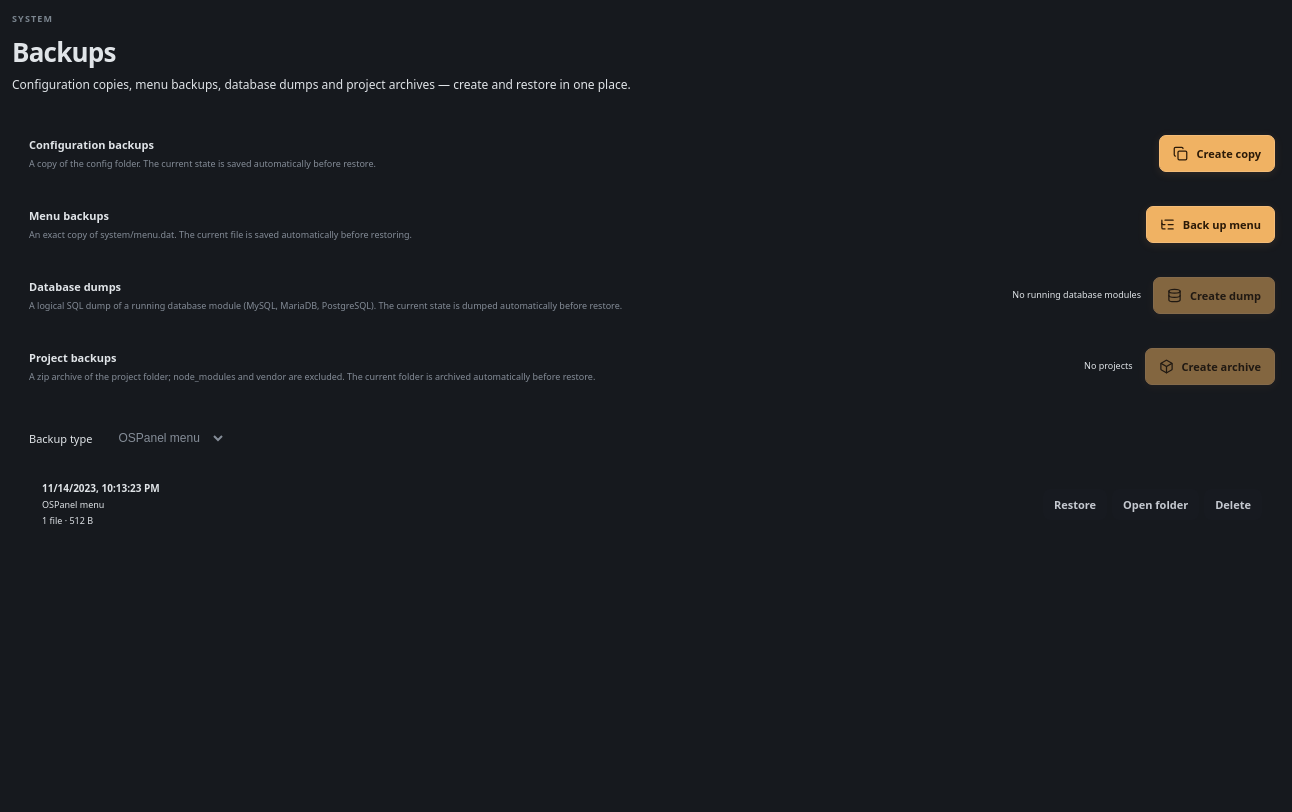
Test case: Backups list › opens filtered menu copies and allows switching to other types
The image size is (1292, 812).
Check: the text "OSPanel menu" is shown, box [42,498,104,511]
Check: the text "Configurations" is not shown
Select "Databases" in the dropdown named "Backup type" at (166, 438), box [104,420,226,456]
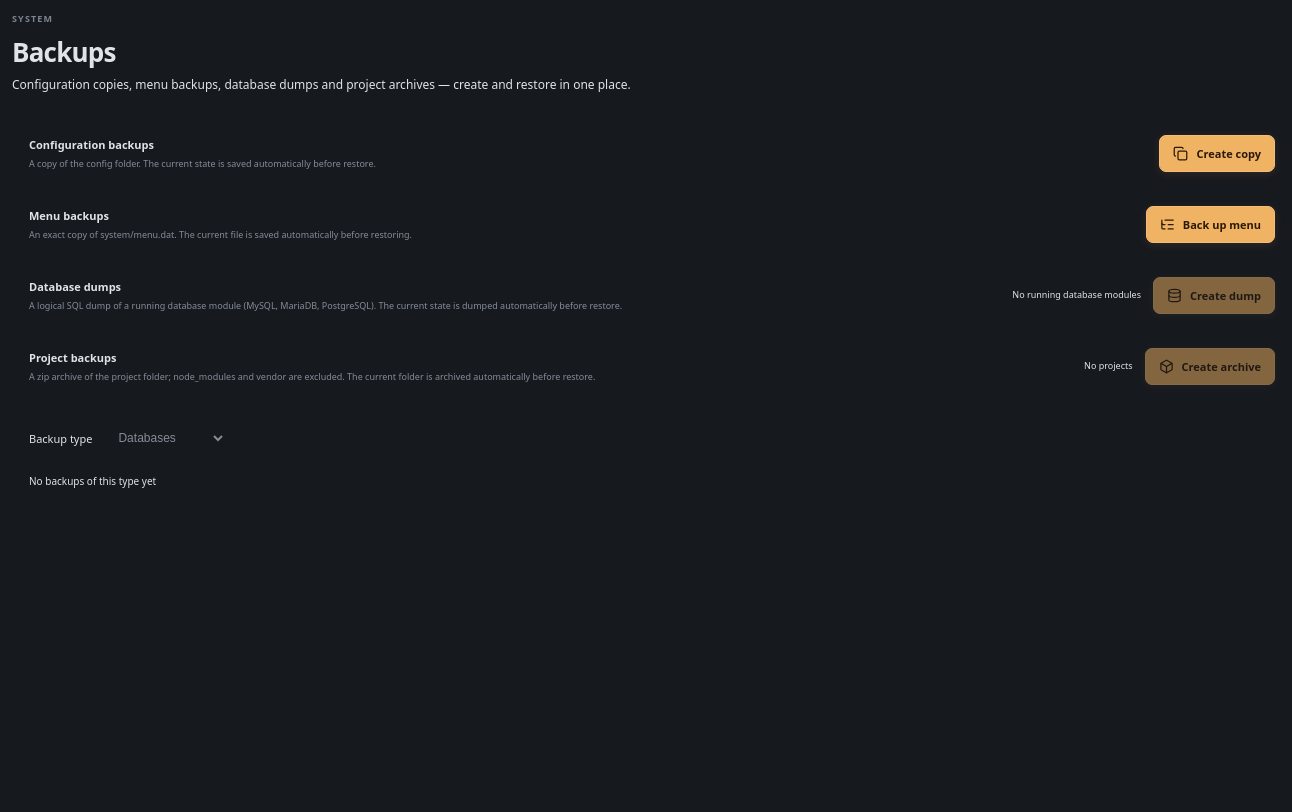
Check: the text "No backups of this type yet" is shown, box [29,474,156,488]
Select "All" in the dropdown named "Backup type" at (166, 438), box [104,420,226,456]
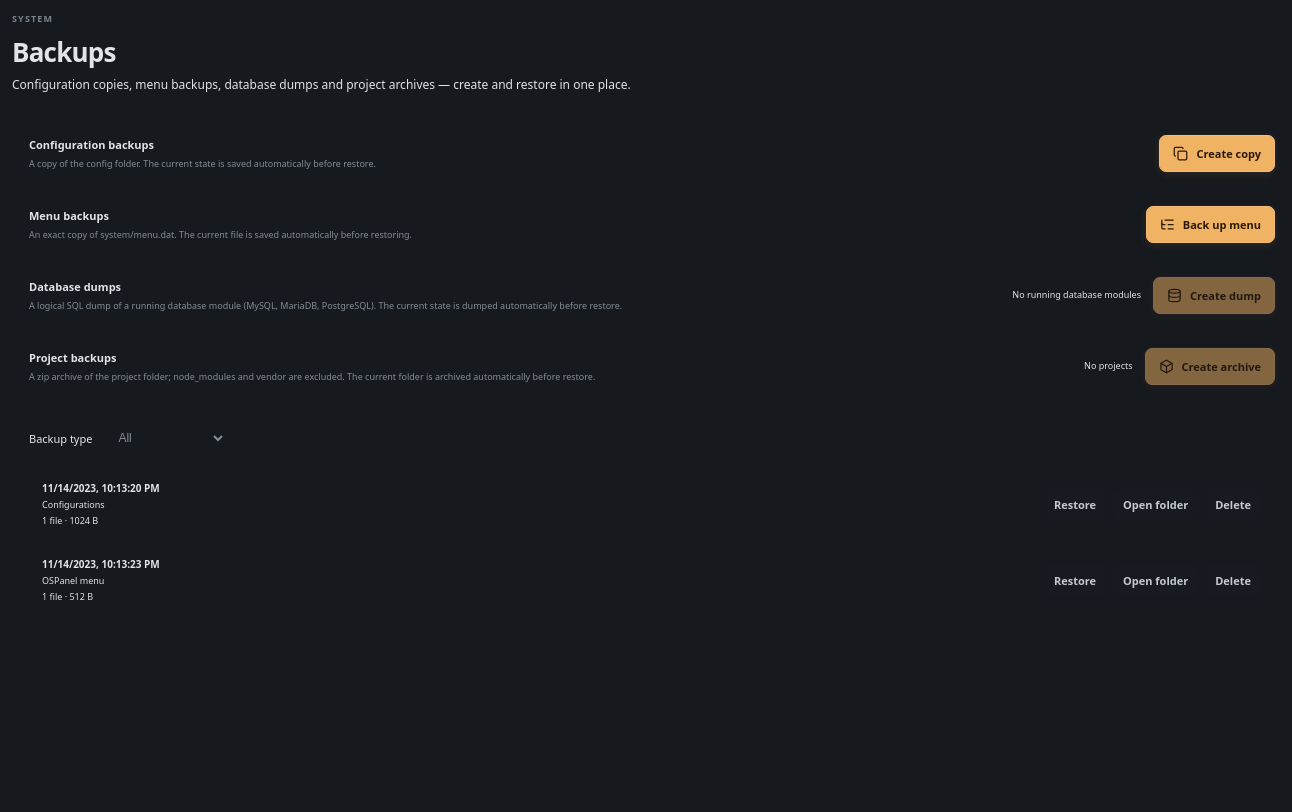
Check: the text "Configurations" is shown, box [42,498,105,511]
